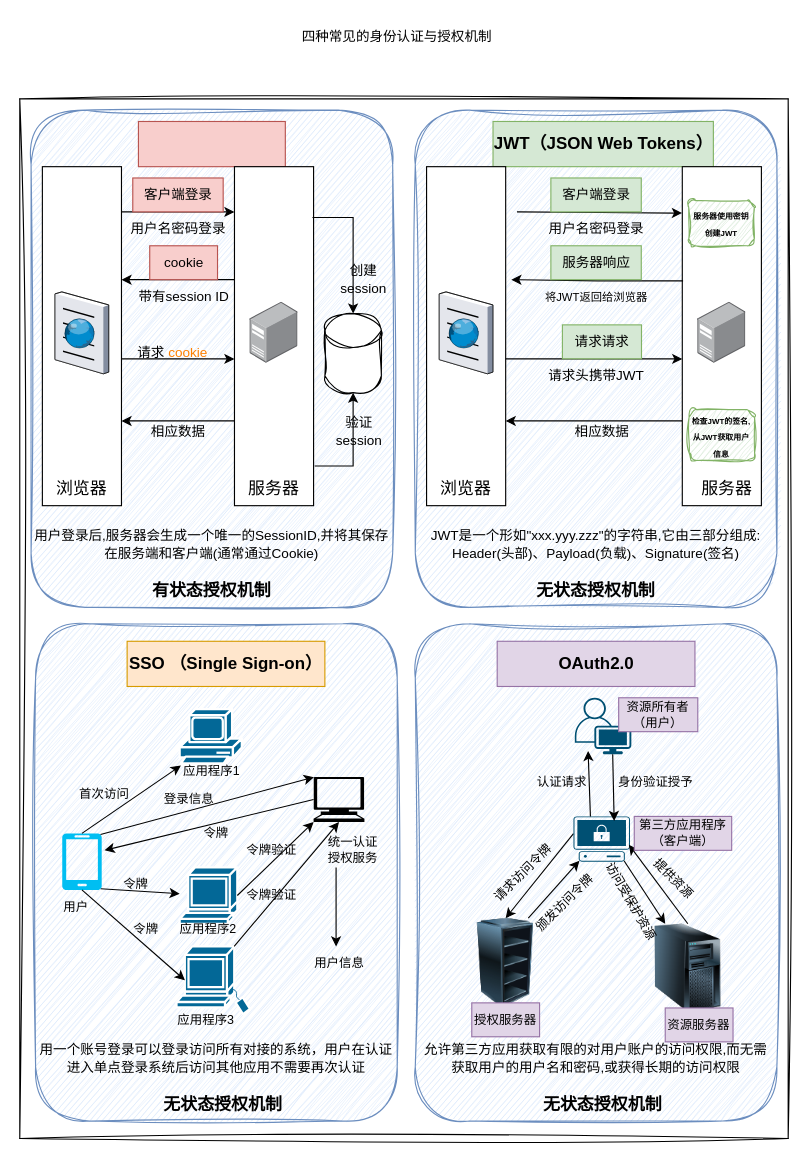
This 809x1159 diagram has some shape labels left out. The shapes that lost their labels are listed below. From the top down, each one's centre as x and y in pixels, then its label:
At point 211,143: "Session".
At point 352,352: "session ID".
